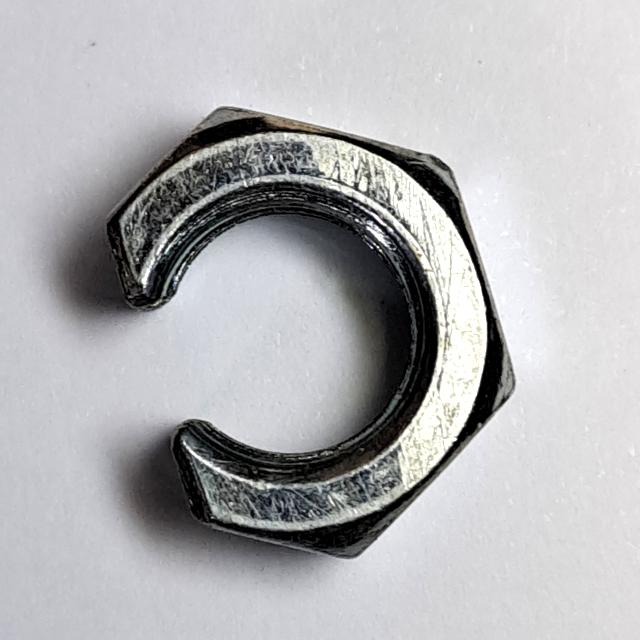Fracture: (94, 94, 528, 573)
